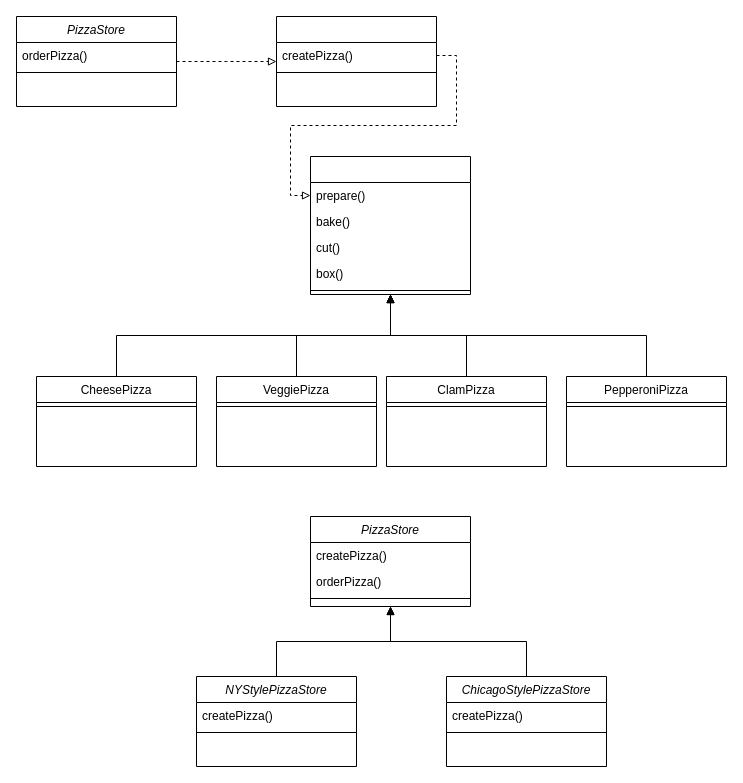
Image size: 743x783. Some labels were removed from this diagram. The box of each missing label's shape, as (x1, y1, x2, y2) in pixels:
Pizza: (310, 156, 470, 294)
SimplePizzaFactory: (276, 16, 436, 106)
